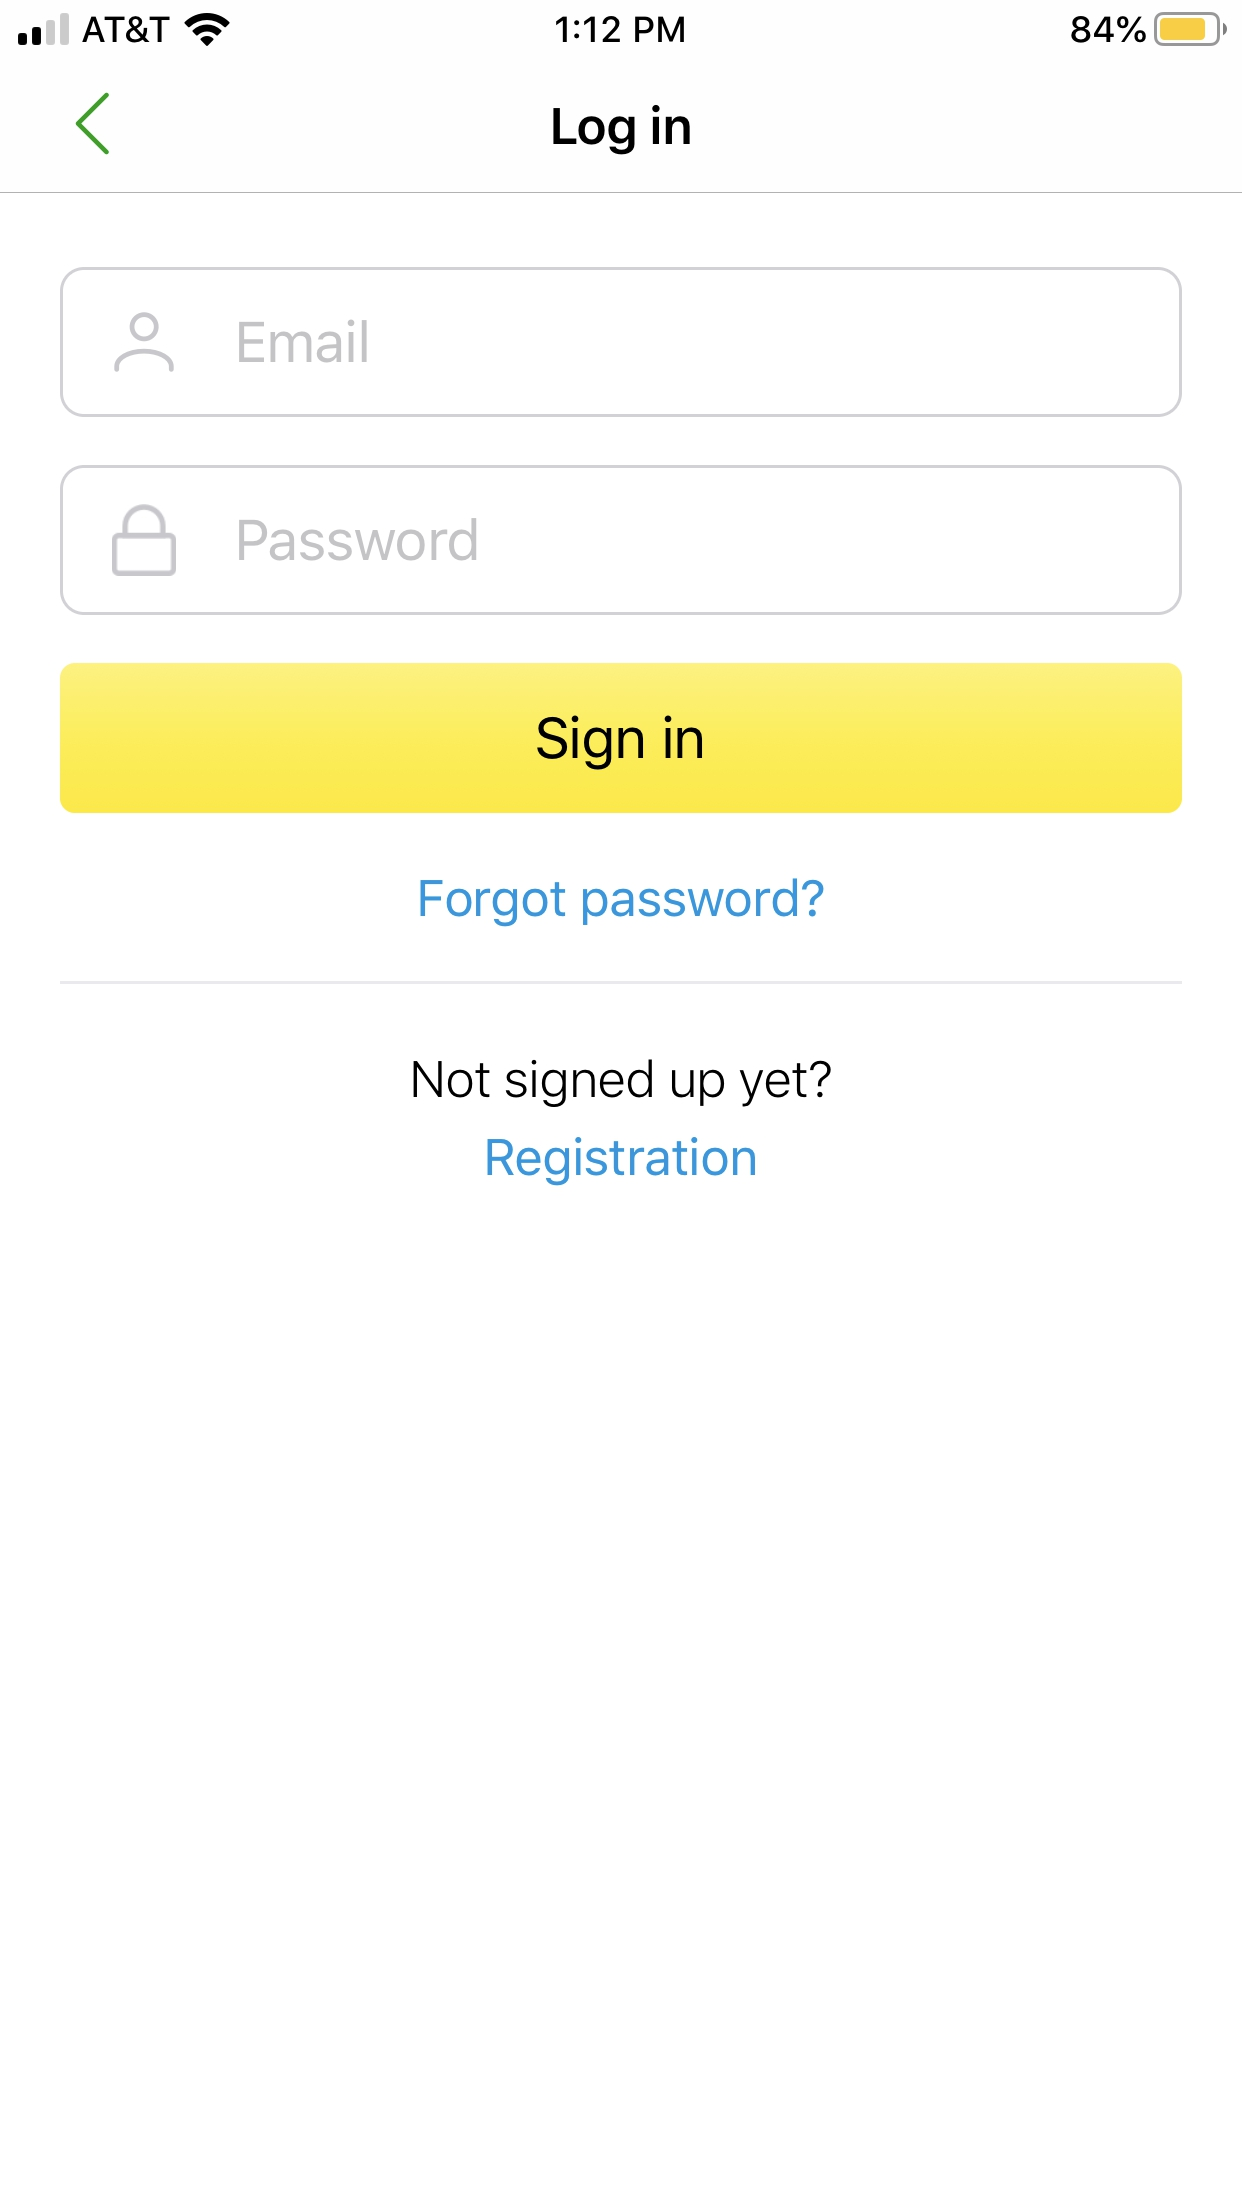EditText: (61, 267, 1181, 419), (61, 466, 1181, 616)
Icon: (112, 503, 177, 576), (115, 312, 174, 373), (74, 93, 111, 156)
Text: (412, 1059, 831, 1109), (420, 878, 825, 928), (487, 1136, 757, 1187), (240, 519, 478, 563), (554, 105, 692, 155), (240, 318, 369, 364)
TextButton: (61, 663, 1181, 814)
UpperTaskBar: (2, 2, 1242, 47)
